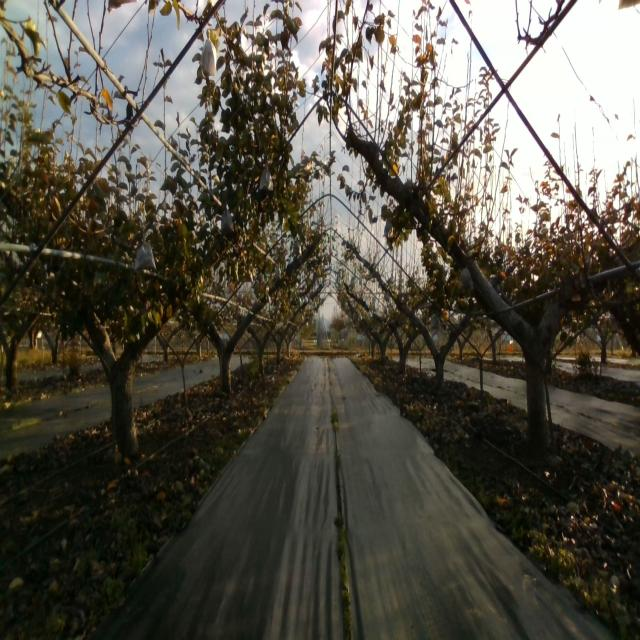pearbags: (199, 28, 217, 78), (134, 235, 157, 272), (219, 202, 235, 235), (457, 264, 474, 291), (260, 163, 274, 191), (383, 215, 393, 238)
